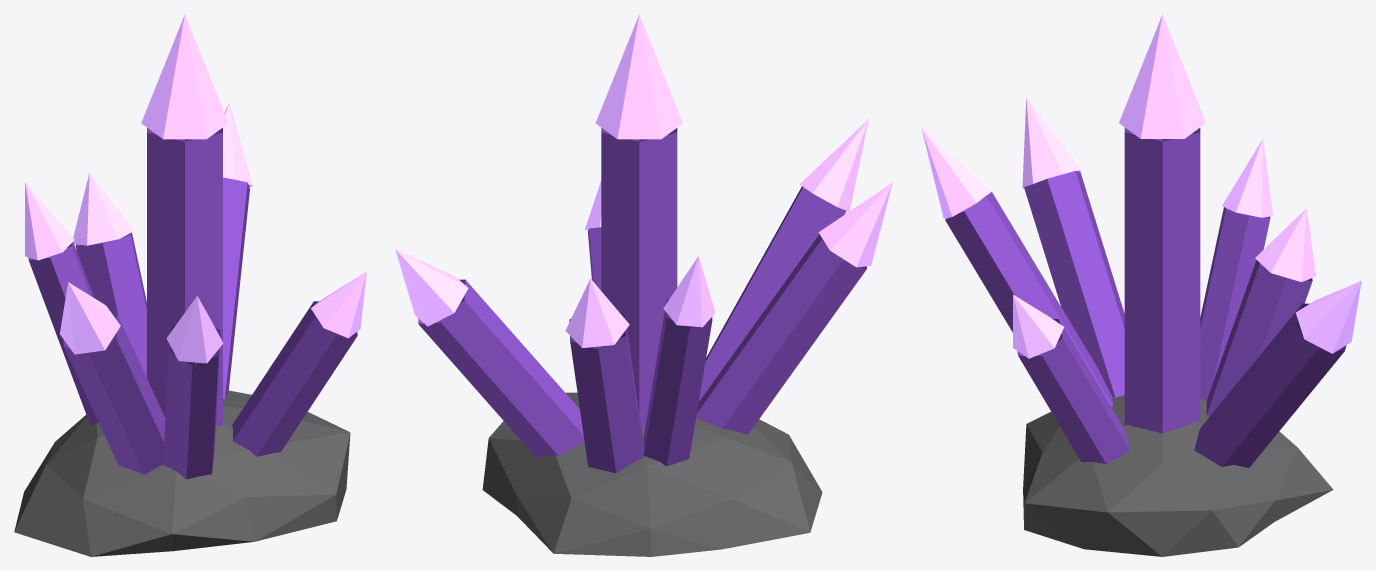
File: crystals_a.glb
The picture shows the model from 3 angles, left to right: view 1: azimuth 30°, elevation 25°; view 2: azimuth 150°, elevation 25°; view 3: azimuth 270°, elevation 25°; orthographic projection.
Visible parts, largest first — view 1: crystals_a; view 2: crystals_a; view 3: crystals_a.
Part boxes in pixels (x1,y1,x2,y2): crystals_a: [14, 14, 366, 556]; crystals_a: [395, 14, 892, 556]; crystals_a: [921, 14, 1361, 556].
Size of the model in its own units: 0.8678 by 1.2 by 1.01.
